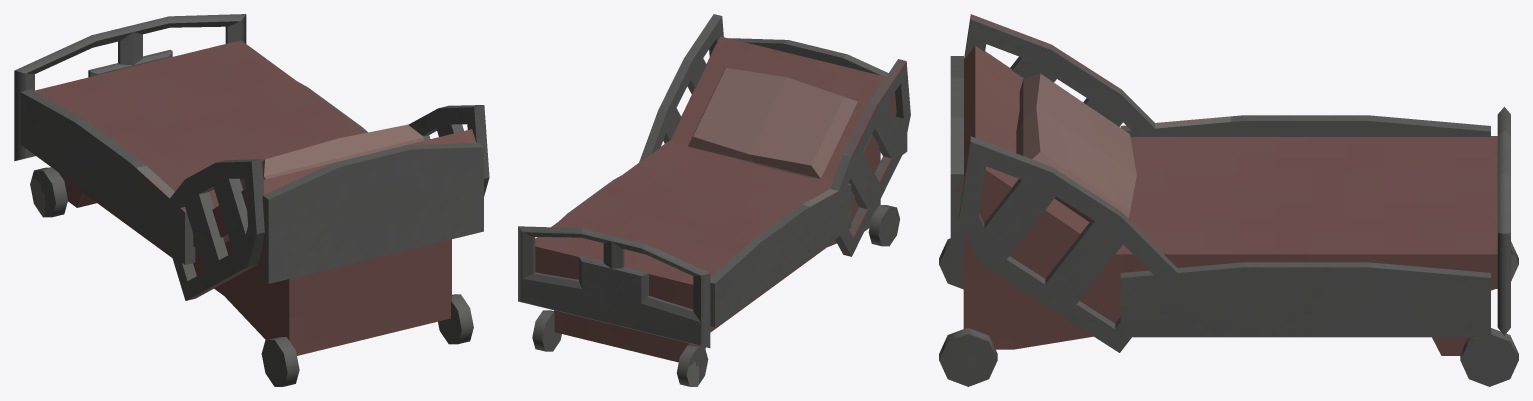
Rendered from hopstital bed1.glb.
3 renders of one model, left to right at view 1: azimuth 30°, elevation 25°; view 2: azimuth 150°, elevation 25°; view 3: azimuth 270°, elevation 25°, orthographic. The views are drawn at different scales.
Visible parts, largest first — view 1: bed2; view 2: bed2; view 3: bed2.
Part boxes in pixels (left/top/right/bottom): bed2: left=14, top=14, right=489, bottom=386; bed2: left=518, top=14, right=910, bottom=386; bed2: left=939, top=14, right=1518, bottom=386.
Size of the model in its own units: 1.6 by 1.5 by 3.06.
Materials: 1 (1 with a texture image).
